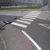zebra: (11, 11, 41, 27)
